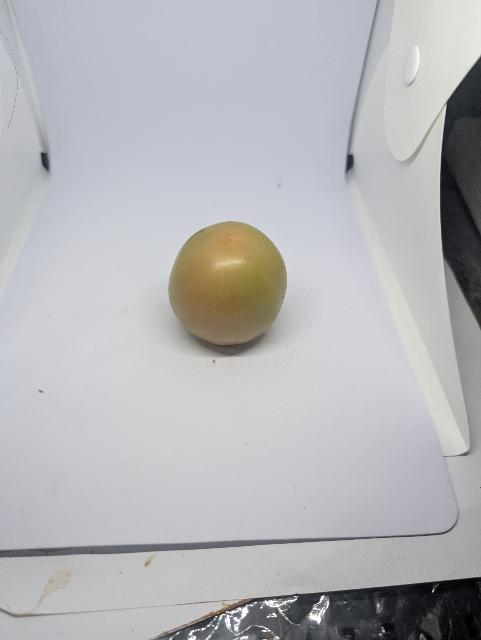breaker: (164, 216, 289, 354)
